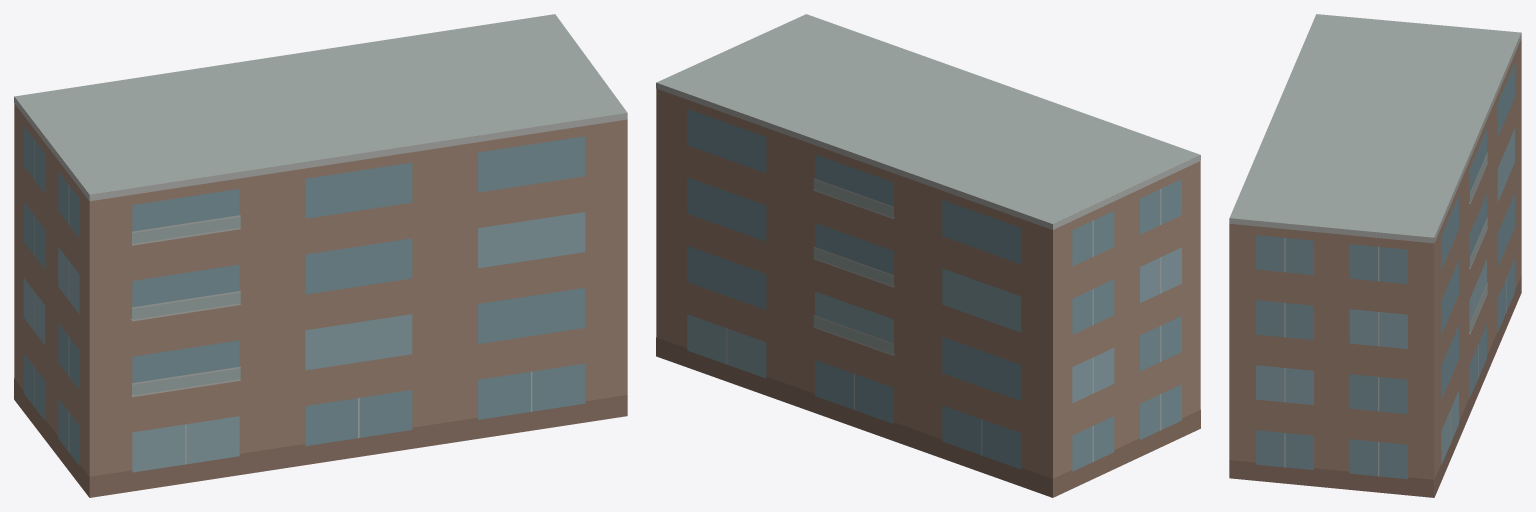
Rendered from survey-upis-32894241.glb.
3 renders of one model, left to right at view 1: azimuth 30°, elevation 25°; view 2: azimuth 150°, elevation 25°; view 3: azimuth 270°, elevation 25°, orthographic. The views are drawn at different scales.
Visible parts, largest first — view 1: survey-upis-32894241.tmp; view 2: survey-upis-32894241.tmp; view 3: survey-upis-32894241.tmp.
Part boxes in pixels (x1,y1,x2,y2): survey-upis-32894241.tmp: [14, 14, 627, 497]; survey-upis-32894241.tmp: [656, 14, 1200, 497]; survey-upis-32894241.tmp: [1229, 14, 1521, 497].
Size of the model in its own units: 20.86 by 11.3 by 11.51.
